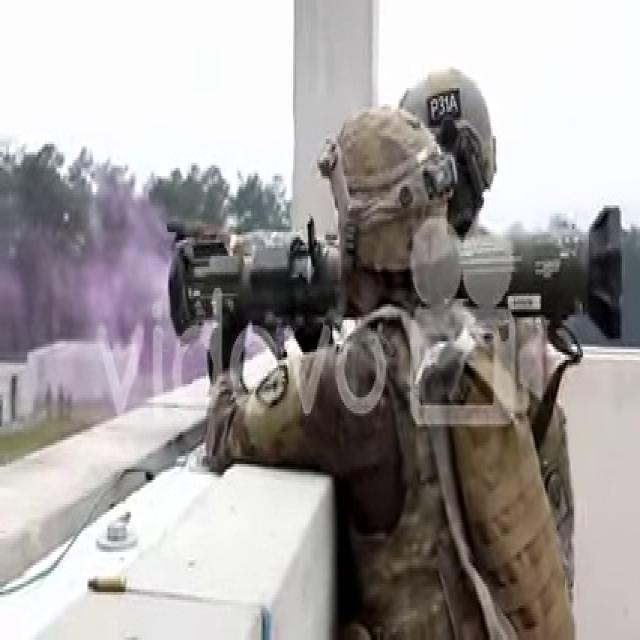bazooka: (165, 206, 635, 371)
